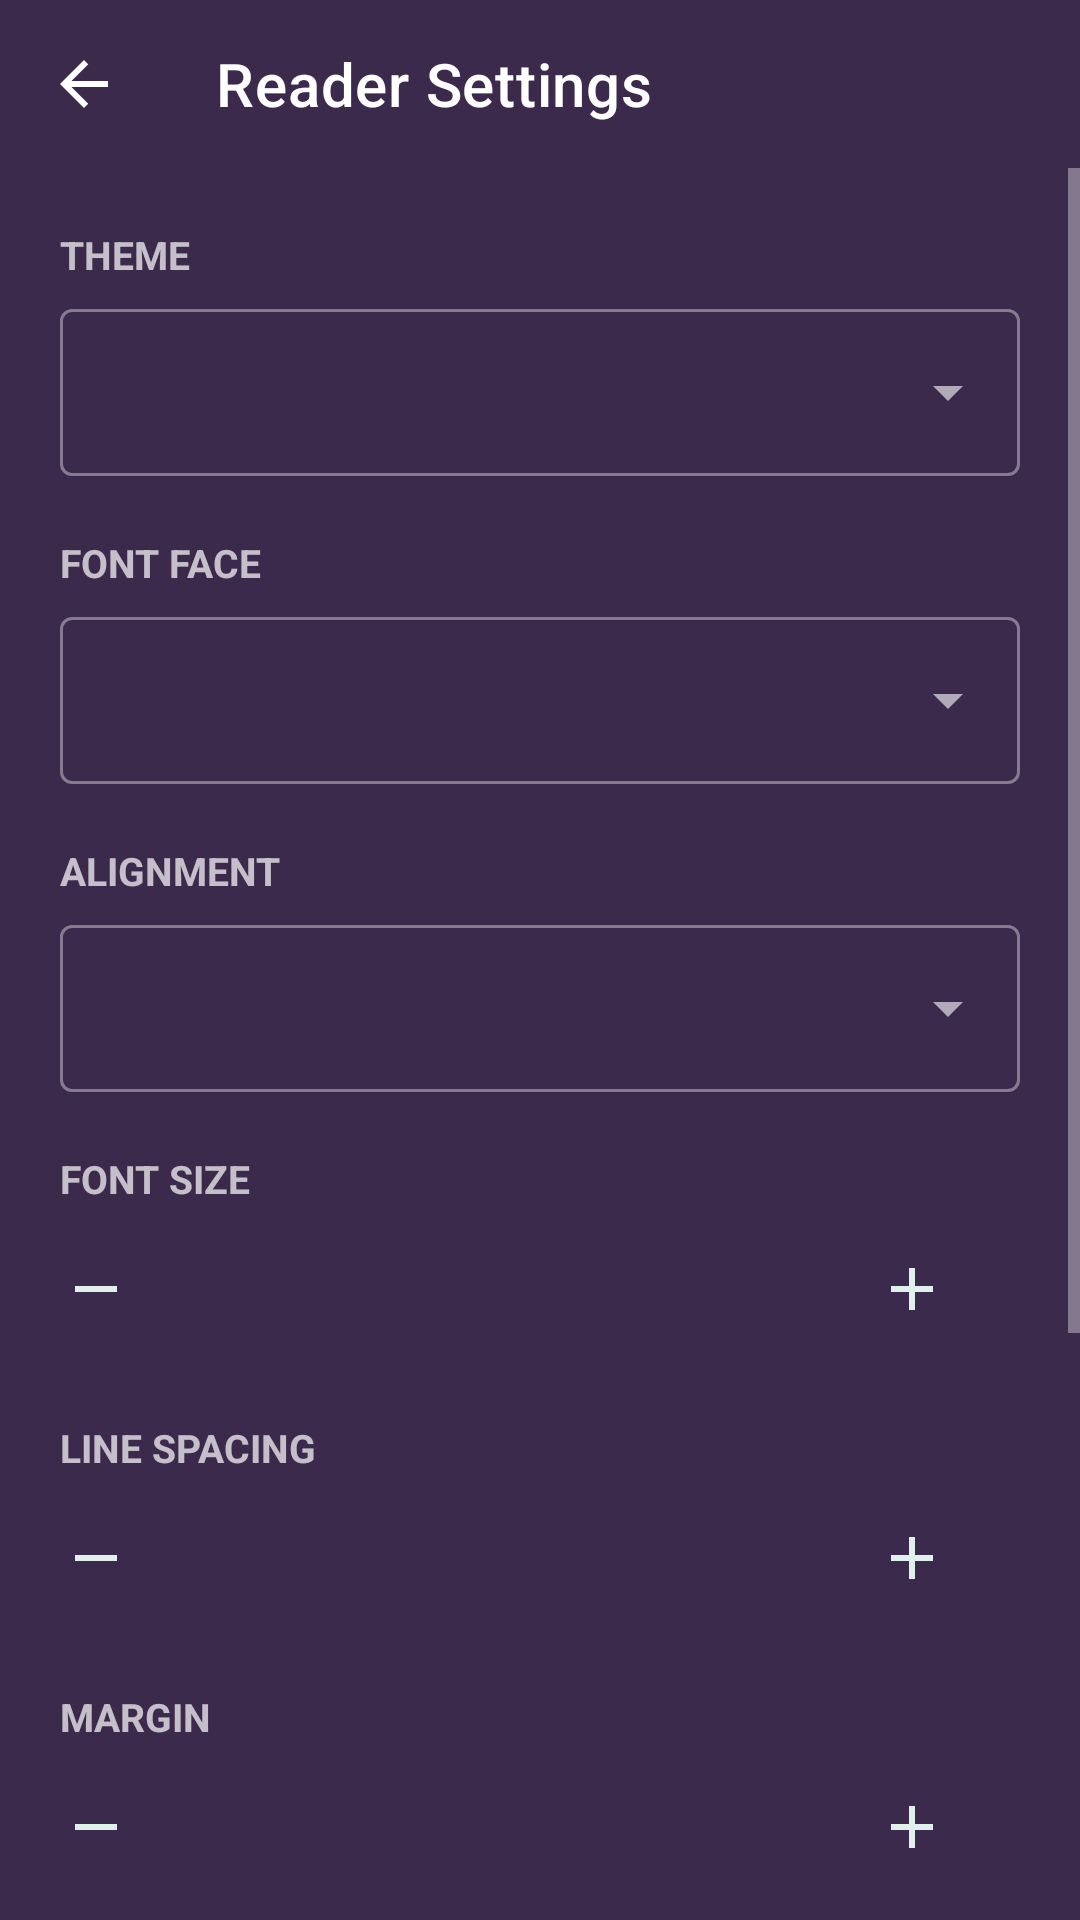

Icon bounding boxes for this 1080 × 1920 phone screenshot, format (x1, y1, x2, y2):
Increase: (891, 1268, 933, 1310), (891, 1537, 933, 1579), (891, 1806, 933, 1848)
